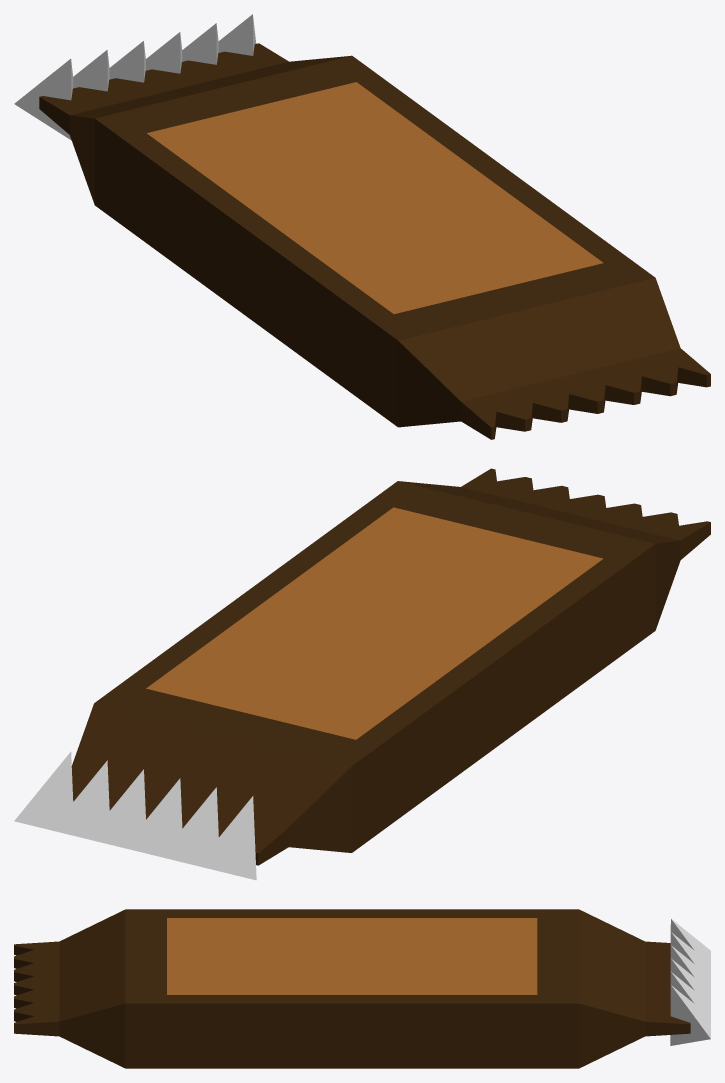
File: Snack.fbx
3 views of the same model, one above another, from view 1: azimuth 30°, elevation 25°; view 2: azimuth 150°, elevation 25°; view 3: azimuth 270°, elevation 25° (orthographic). The views are drawn at different scales.
Parts seen in each view (by area): view 1: Cube, Cone; view 2: Cube, Cone; view 3: Cube, Cone.
Part boxes in pixels (left/top/right/bottom): Cube: left=39, top=43, right=710, bottom=439; Cone: left=14, top=14, right=256, bottom=140; Cube: left=71, top=468, right=710, bottom=865; Cone: left=14, top=752, right=256, bottom=880; Cube: left=14, top=909, right=690, bottom=1068; Cone: left=670, top=919, right=710, bottom=1045.
Size of the model in its own units: 11.98 by 4.14 by 37.52.
